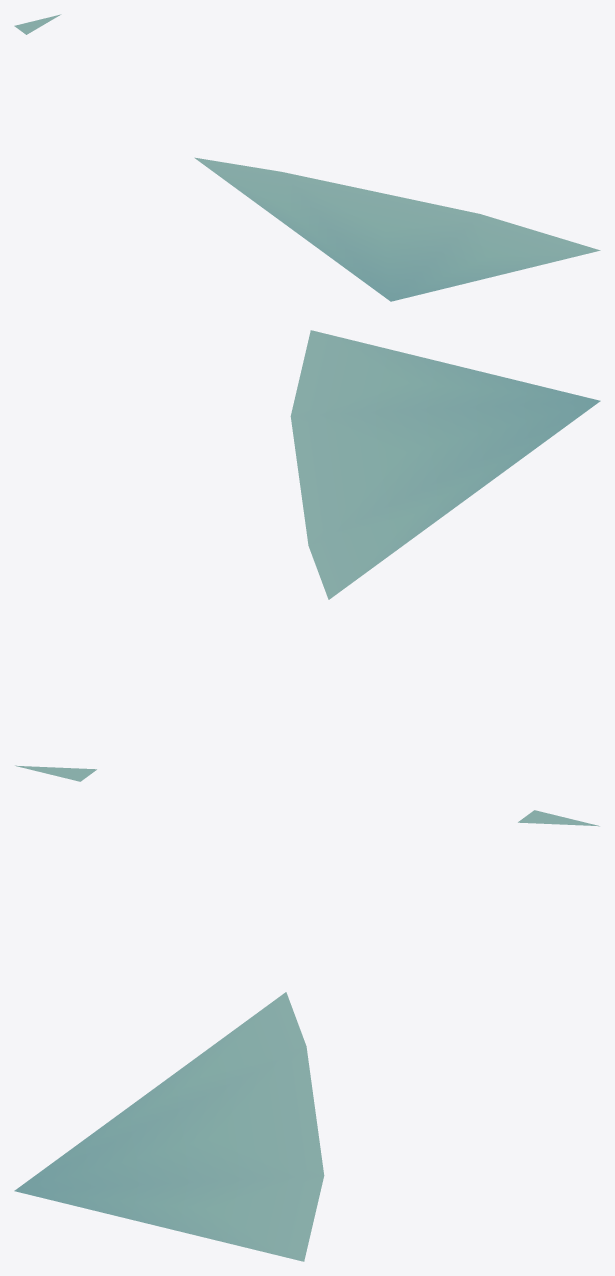
Rendered from water-16-10.glb.
3 renders of one model, top to bottom at view 1: azimuth 30°, elevation 25°; view 2: azimuth 150°, elevation 25°; view 3: azimuth 330°, elevation 25°, orthographic. The views are drawn at different scales.
Bounding box in the file's own units: 5.15 × 0 × 16.
